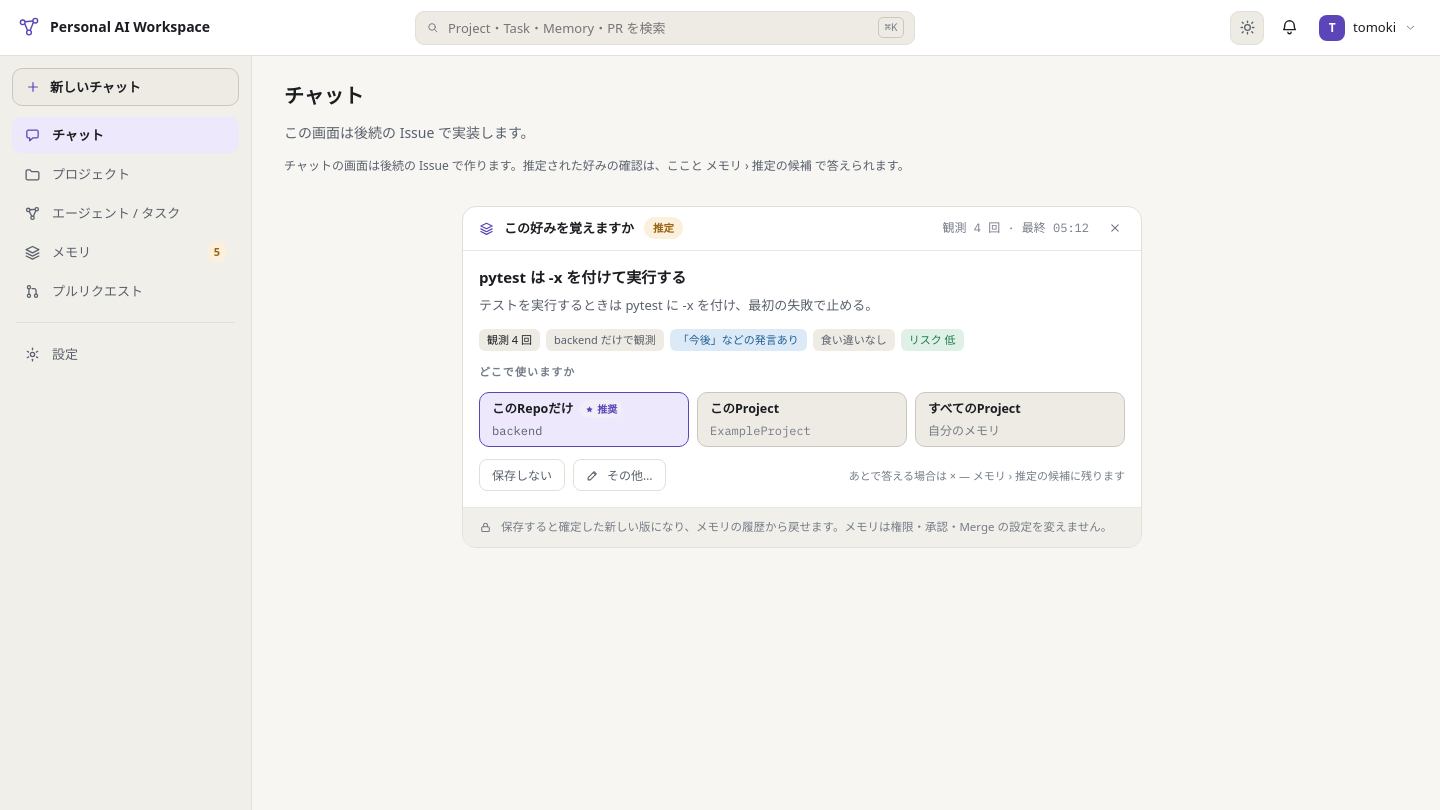
the chat's preference confirmation card › [保存しない] rejects the candidate
The image size is (1440, 810).
Click the button "保存しない" at (522, 475), box [479,459,565,491]
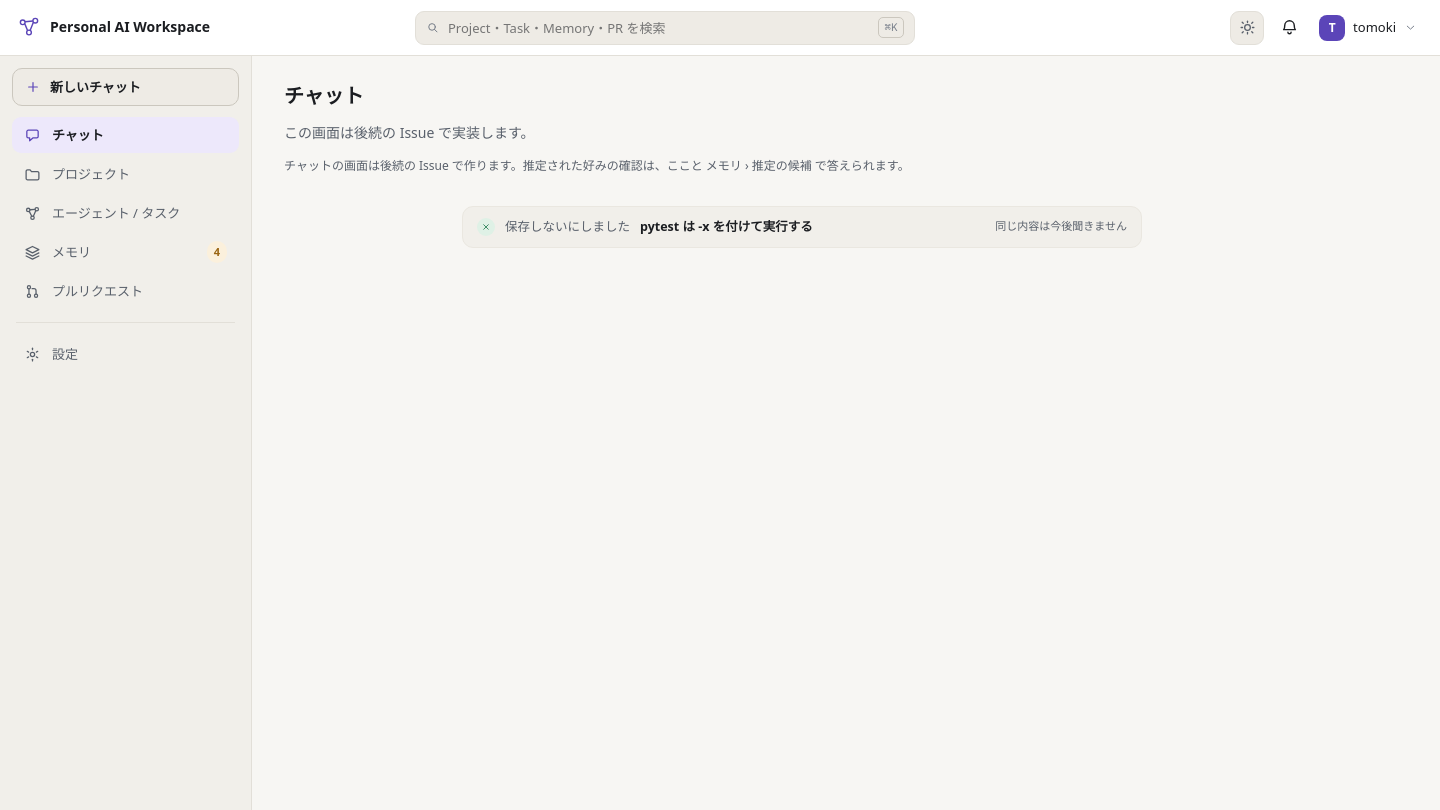
Check: the message reads "保存しないにしました pytest は -x を付けて実行する 同じ内容は今後聞きません", box [462,206,1142,248]
